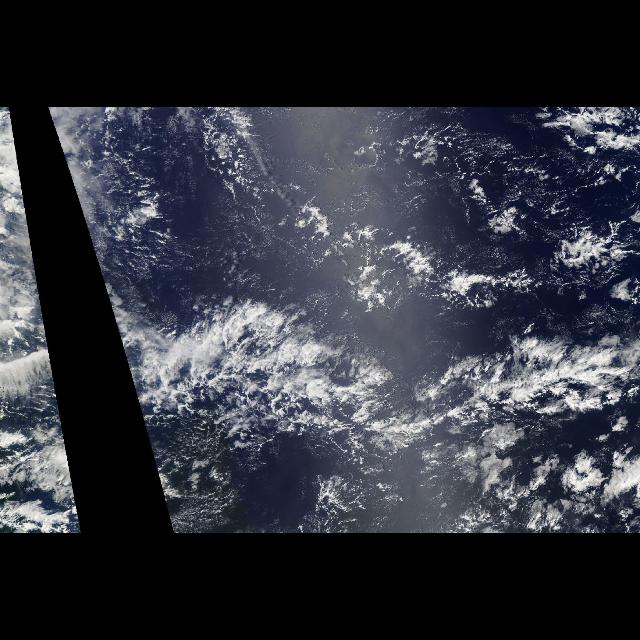Fish: (108, 225, 640, 530)
